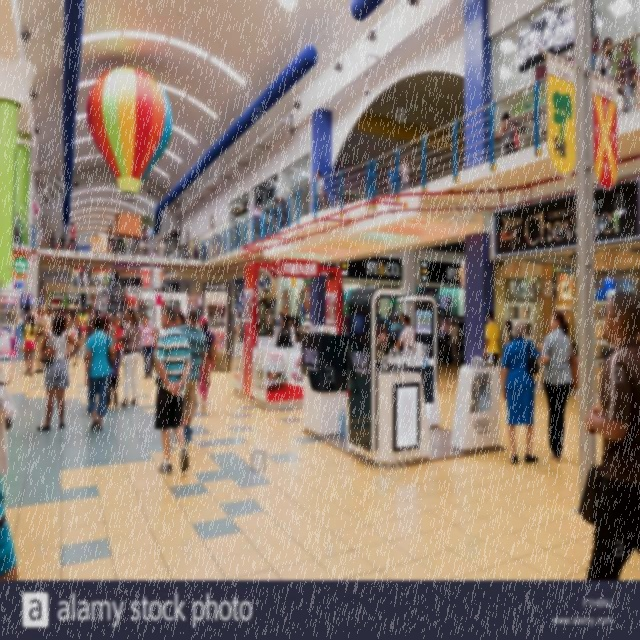pessoa: (280, 314, 394, 640), (584, 290, 640, 583), (500, 318, 550, 466), (539, 308, 582, 462), (154, 304, 192, 477), (36, 312, 82, 432), (176, 308, 212, 448), (84, 316, 116, 432), (84, 315, 116, 417), (0, 358, 19, 512), (116, 305, 140, 408), (198, 314, 218, 410), (508, 278, 540, 335), (616, 40, 640, 115), (136, 314, 158, 378), (20, 314, 40, 377), (34, 304, 52, 374), (0, 303, 19, 358), (496, 111, 518, 156), (484, 309, 501, 367), (84, 332, 96, 414), (65, 303, 80, 367), (394, 315, 416, 358), (22, 303, 40, 354), (112, 314, 124, 385), (595, 37, 614, 81), (253, 176, 280, 206), (106, 352, 120, 408), (448, 318, 462, 367), (100, 314, 118, 348), (92, 307, 124, 325), (556, 272, 578, 296), (206, 298, 226, 324), (312, 170, 324, 212), (46, 303, 82, 317), (384, 309, 394, 357), (398, 156, 411, 192), (208, 326, 226, 352), (84, 304, 97, 338), (251, 204, 262, 242), (399, 312, 408, 358), (602, 342, 617, 368), (66, 221, 78, 252), (105, 222, 116, 255), (376, 319, 387, 352), (386, 161, 396, 196), (80, 308, 89, 346), (287, 314, 304, 334), (278, 196, 288, 228), (503, 320, 516, 344), (300, 312, 314, 333), (182, 244, 199, 260), (388, 315, 403, 333), (270, 206, 280, 232), (234, 312, 242, 344), (266, 308, 274, 338), (438, 318, 450, 338), (140, 227, 148, 256), (174, 310, 186, 328), (23, 306, 32, 326), (322, 191, 332, 209), (116, 237, 126, 254), (48, 230, 56, 250), (275, 310, 284, 326), (38, 236, 48, 248), (134, 235, 140, 255), (59, 233, 66, 250), (78, 272, 85, 288), (83, 304, 93, 315), (66, 239, 74, 249), (335, 192, 340, 206), (136, 310, 142, 320), (55, 242, 59, 250)
